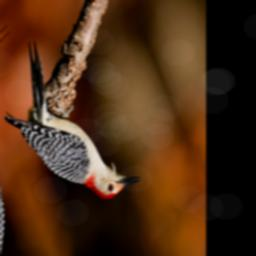Woodpecker: (0, 0, 142, 256)
